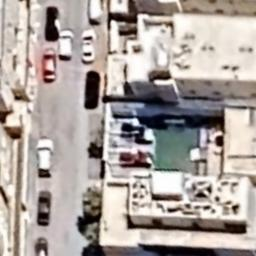SUV: (34, 135, 52, 177)
sedan: (81, 69, 102, 110), (58, 28, 76, 70), (40, 47, 60, 83), (79, 28, 98, 65), (35, 189, 52, 228), (44, 5, 62, 41), (34, 236, 50, 256)
